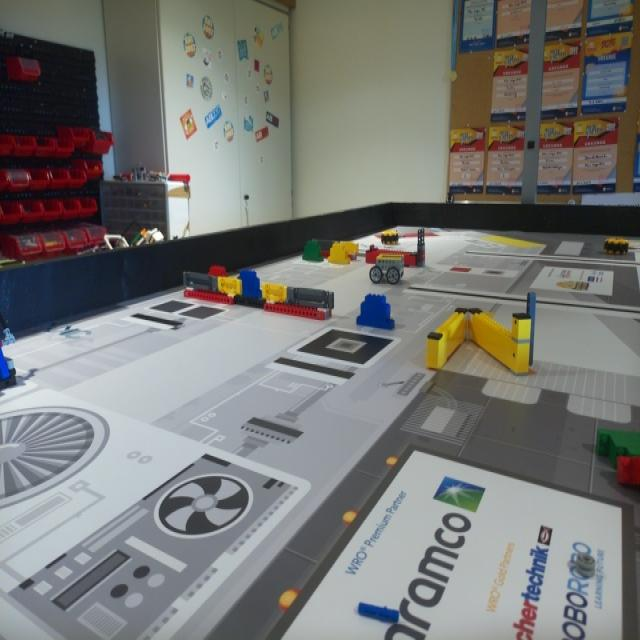blau: (357, 292, 395, 329), (235, 272, 261, 294)
gruen: (300, 240, 323, 263)
rot: (207, 266, 227, 278)
yellow: (328, 243, 349, 263)
